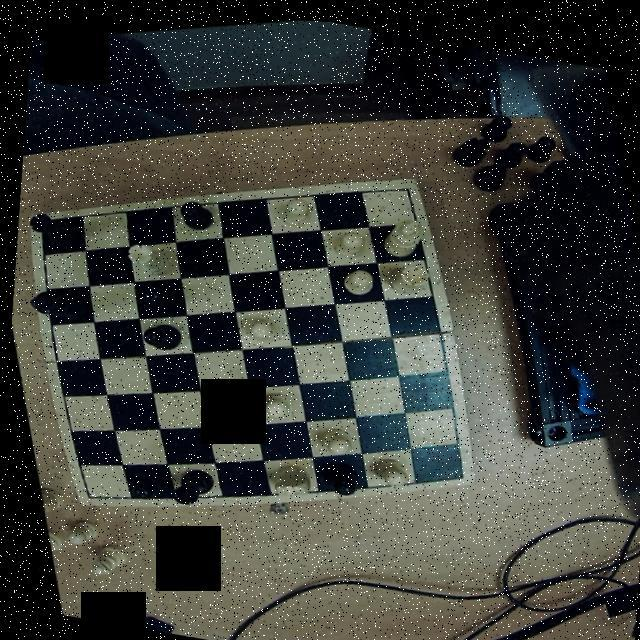chess-table-corners: (437, 452, 470, 483), (390, 170, 420, 202), (24, 208, 58, 234), (68, 478, 96, 504)
